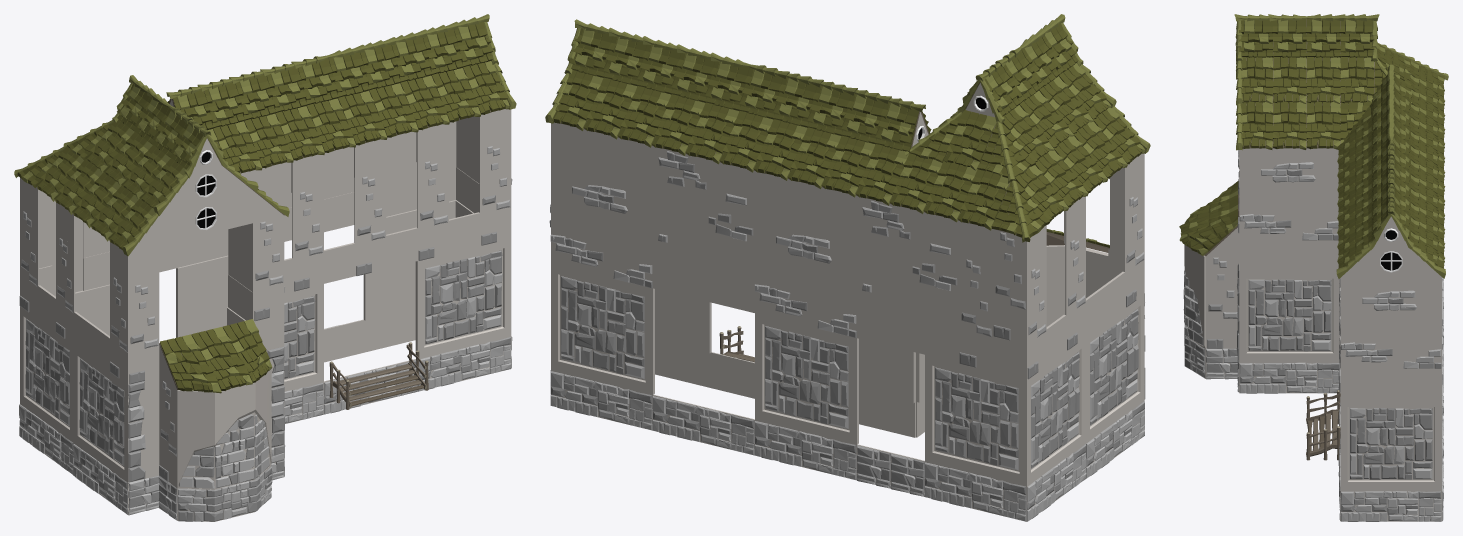
Rendered from HOUSE_17_PARTS.fbx.
3 views of the same model, side by side, from view 1: azimuth 30°, elevation 25°; view 2: azimuth 150°, elevation 25°; view 3: azimuth 270°, elevation 25° (orthographic). The views are drawn at different scales.
Parts seen in each view (by area): view 1: WALL_02_4, BALKON_03_2, ROOF_base_round_2, WALL_02_7, WALL_02_8, WALL_02_3, WALL_02_10, WALL_06_4, WALL_06_9, WALL_02_11, WALL_06_7, FOUNDATION_01_2 (+85 smaller); view 2: WALL_02_10, WALL_02_11, WALL_02_9, WALL_03_5, WALL_03_4, WALL_01_3, WALL_01_2, WALL_02_7, WALL_02_8, FOUNDATION_03_8, FOUNDATION_03_10, FOUNDATION_03_9 (+76 smaller); view 3: WALL_02_6, WALL_03_3, WALL_02_5, WALL_03_2, FOUNDATION_03_2, FOUNDATION_03_6, WALL_06_16, ROOF_base_round_2, BALKON_03_2, STAIRS_01_3, ROOF_BASE_26, ROOF_BASE_25 (+48 smaller).
Boxes of the visible parts, x1,y1,x2,y2 form: WALL_02_4: (415,238,511,358); BALKON_03_2: (177,369,271,489); ROOF_base_round_2: (159,319,272,393); WALL_02_7: (74,345,127,481); WALL_02_8: (20,306,73,442); WALL_02_3: (284,284,323,391); WALL_02_10: (176,255,228,337); WALL_06_4: (252,215,284,320); WALL_06_9: (479,140,511,245); WALL_02_11: (363,200,455,320); WALL_06_7: (354,170,386,276); FOUNDATION_01_2: (177,465,272,521); WALL_02_10: (755,313,858,444); WALL_02_11: (551,263,654,394); WALL_02_9: (925,355,1028,486); WALL_03_5: (754,206,856,337); WALL_03_4: (550,157,652,288); WALL_01_3: (857,196,958,327); WALL_01_2: (653,146,754,277); WALL_02_7: (1086,294,1144,442); WALL_02_8: (1026,336,1085,485); FOUNDATION_03_8: (652,394,754,455); FOUNDATION_03_10: (924,461,1026,521); FOUNDATION_03_9: (754,420,856,480); WALL_02_6: (1239,270,1339,362); WALL_03_3: (1340,277,1441,368); WALL_02_5: (1340,399,1441,490); WALL_03_2: (1239,148,1338,240); FOUNDATION_03_2: (1239,362,1339,393); FOUNDATION_03_6: (1340,491,1441,521); WALL_06_16: (1205,256,1239,348); ROOF_base_round_2: (1179,181,1239,256); BALKON_03_2: (1183,244,1205,347); STAIRS_01_3: (1306,390,1340,460); ROOF_BASE_26: (1272,101,1306,149); ROOF_BASE_25: (1306,101,1340,149).
Bounding box in the file's own units: 1428 × 1120 × 799.
